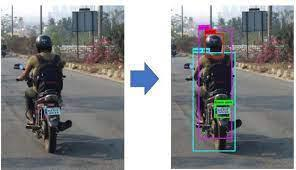motorcycle: (5, 58, 82, 154), (182, 60, 255, 156)
